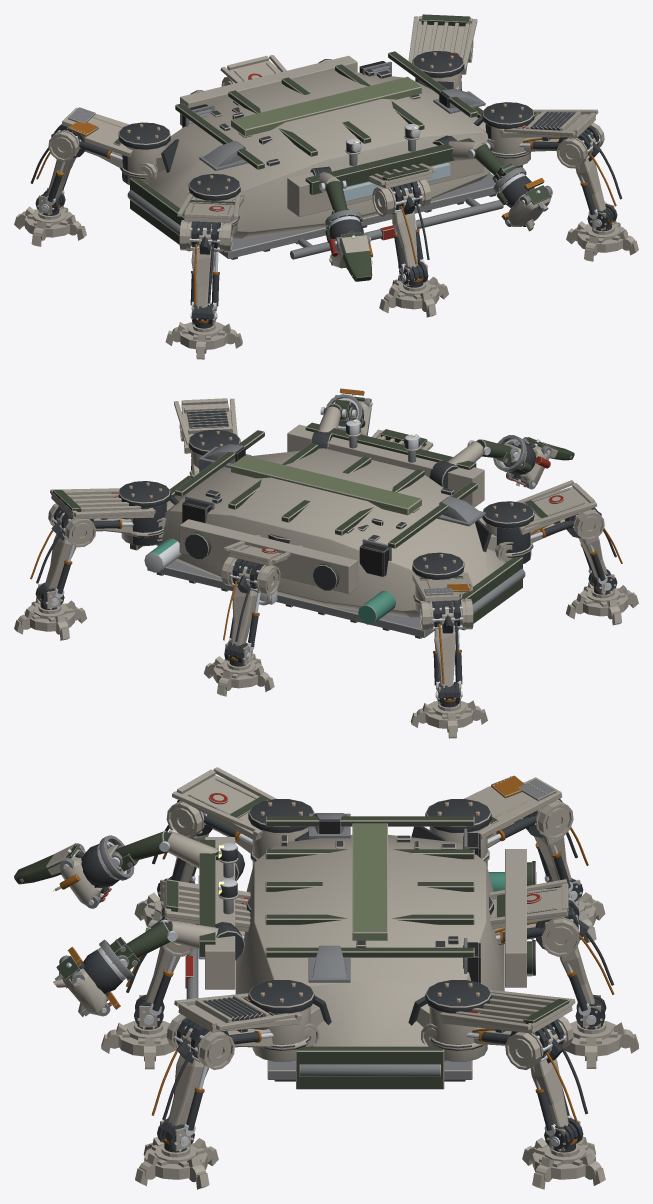
Rendered from crab_walker_6.fbx.
3 renders of one model, top to bottom at view 1: azimuth 30°, elevation 25°; view 2: azimuth 150°, elevation 25°; view 3: azimuth 270°, elevation 25°, orthographic. The views are drawn at different scales.
Visible parts, largest first — view 1: Mesh_Crab_Carapace, Mesh_Crab_Prow, Mesh_Crab_Underbelly, Mesh_Leg_F1_Lower, Mesh_Leg_F2_Lower, Mesh_Claw_N_Palm, Mesh_Leg_A3_Shroud, Mesh_Leg_F3_Lower, Mesh_Claw_P_Palm, Mesh_Leg_F2_Foot, Mesh_Leg_F1_Foot, Mesh_Leg_F3_Foot (+14 smaller); view 2: Mesh_Crab_Carapace, Mesh_Crab_Stern, Mesh_Crab_Underbelly, Mesh_Crab_Prow, Mesh_Leg_A2_Lower, Mesh_Leg_A1_Lower, Mesh_Leg_A3_Shroud, Mesh_Leg_A3_Lower, Mesh_Leg_F1_Shroud, Mesh_Leg_A2_Foot, Mesh_Leg_A1_Foot, Mesh_Leg_A3_Foot (+16 smaller); view 3: Mesh_Crab_Carapace, Mesh_Crab_Underbelly, Mesh_Crab_Prow, Mesh_Leg_F3_Lower, Mesh_Claw_N_Palm, Mesh_Leg_A3_Lower, Mesh_Crab_Stern, Mesh_Leg_A3_Shroud, Mesh_Leg_F1_Shroud, Mesh_Leg_F3_Foot, Mesh_Leg_A3_Foot, Mesh_Claw_P_Palm (+21 smaller).
Part boxes in pixels (left/top/right/bottom): Mesh_Crab_Carapace: left=118, top=51, right=534, bottom=238; Mesh_Crab_Prow: left=287, top=124, right=503, bottom=259; Mesh_Crab_Underbelly: left=127, top=107, right=522, bottom=259; Mesh_Leg_F1_Lower: left=179, top=220, right=233, bottom=311; Mesh_Leg_F2_Lower: left=372, top=179, right=431, bottom=272; Mesh_Claw_N_Palm: left=325, top=210, right=372, bottom=281; Mesh_Leg_A3_Shroud: left=408, top=14, right=477, bottom=74; Mesh_Leg_F3_Lower: left=556, top=122, right=606, bottom=218; Mesh_Claw_P_Palm: left=493, top=167, right=552, bottom=226; Mesh_Leg_F2_Foot: left=379, top=261, right=448, bottom=317; Mesh_Leg_F1_Foot: left=165, top=303, right=242, bottom=359; Mesh_Leg_F3_Foot: left=566, top=203, right=638, bottom=261; Mesh_Crab_Carapace: left=118, top=429, right=534, bottom=617; Mesh_Crab_Stern: left=144, top=519, right=395, bottom=624; Mesh_Crab_Underbelly: left=130, top=475, right=525, bottom=638; Mesh_Crab_Prow: left=287, top=419, right=484, bottom=507; Mesh_Leg_A2_Lower: left=221, top=556, right=280, bottom=651; Mesh_Leg_A1_Lower: left=419, top=599, right=473, bottom=689; Mesh_Leg_A3_Shroud: left=50, top=488, right=155, bottom=519; Mesh_Leg_A3_Lower: left=45, top=503, right=96, bottom=597; Mesh_Leg_F1_Shroud: left=516, top=480, right=596, bottom=534; Mesh_Leg_A2_Foot: left=204, top=640, right=274, bottom=696; Mesh_Leg_A1_Foot: left=410, top=682, right=487, bottom=738; Mesh_Leg_A3_Foot: left=14, top=582, right=86, bottom=640; Mesh_Crab_Carapace: left=235, top=799, right=504, bottom=1061; Mesh_Crab_Underbelly: left=267, top=1046, right=472, bottom=1089; Mesh_Crab_Prow: left=185, top=837, right=238, bottom=1005; Mesh_Leg_F3_Lower: left=166, top=1014, right=234, bottom=1135; Mesh_Claw_N_Palm: left=14, top=835, right=134, bottom=908; Mesh_Leg_A3_Lower: left=505, top=1016, right=573, bottom=1135; Mesh_Crab_Stern: left=488, top=849, right=536, bottom=987; Mesh_Leg_A3_Shroud: left=440, top=989, right=575, bottom=1034; Mesh_Leg_F1_Shroud: left=172, top=767, right=276, bottom=840; Mesh_Leg_F3_Foot: left=135, top=1118, right=218, bottom=1189; Mesh_Leg_A3_Foot: left=522, top=1118, right=605, bottom=1189; Mesh_Claw_P_Palm: left=56, top=939, right=134, bottom=1016.
Bounding box in the file's own units: 962 × 300 × 904.
